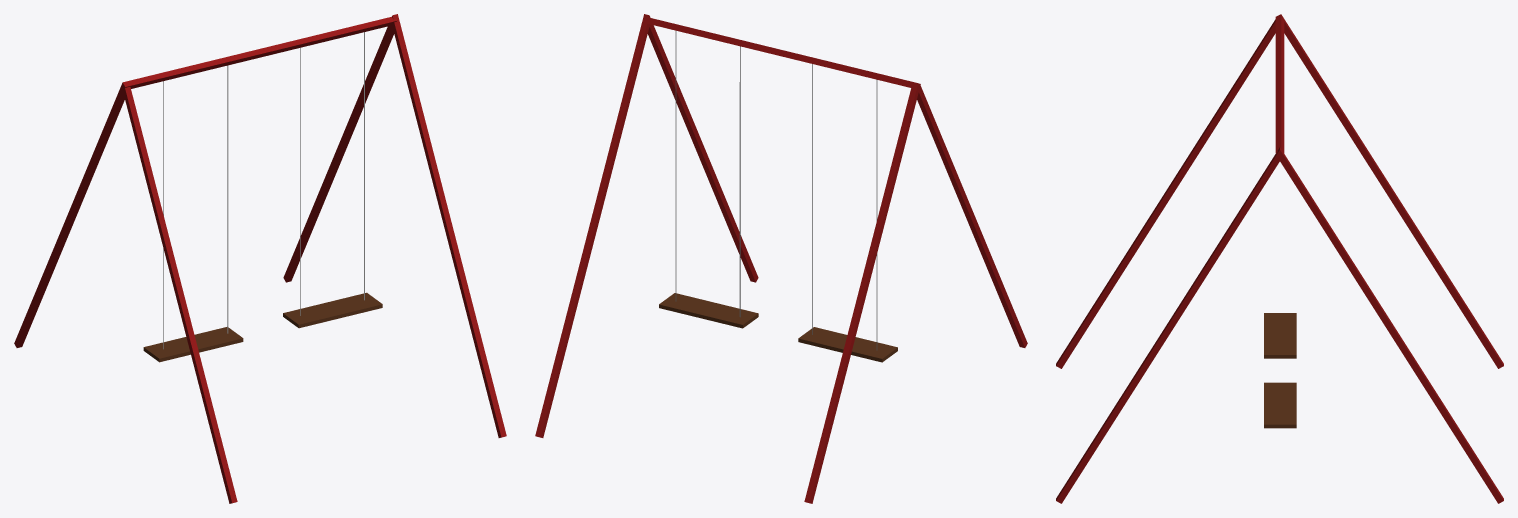
Rendered from MOD_BalancoirA.FBX.
3 renders of one model, left to right at view 1: azimuth 30°, elevation 25°; view 2: azimuth 150°, elevation 25°; view 3: azimuth 270°, elevation 25°, orthographic. The views are drawn at different scales.
Parts seen in each view (by area): view 1: MOD_Balançoire001; view 2: MOD_Balançoire001; view 3: MOD_Balançoire001.
Boxes of the visible parts, x1,y1,x2,y2 form: MOD_Balançoire001: [14, 14, 506, 503]; MOD_Balançoire001: [535, 14, 1027, 503]; MOD_Balançoire001: [1056, 14, 1503, 503].
Bounding box in the file's own units: 1.82 × 2.19 × 2.5.
